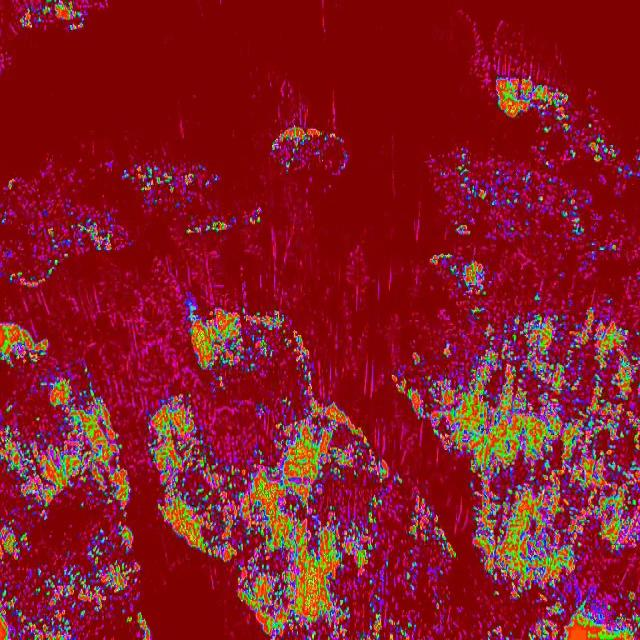fire: (146, 304, 640, 555), (234, 555, 638, 640), (429, 148, 620, 288), (0, 315, 54, 640), (0, 170, 133, 289), (54, 360, 102, 640), (121, 152, 262, 244), (492, 70, 618, 172), (102, 400, 130, 640), (264, 122, 348, 184), (0, 0, 112, 35), (132, 555, 150, 640)
